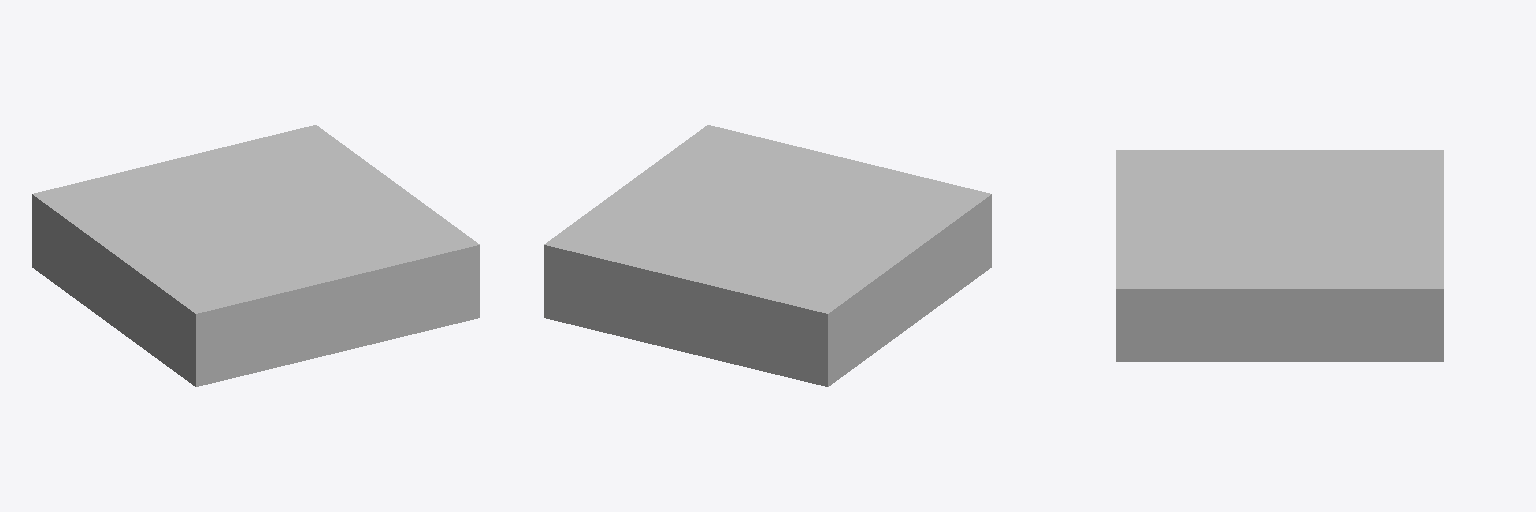
The model's file is PillarFoundation.obj.
3 views of the same model, side by side, from view 1: azimuth 30°, elevation 25°; view 2: azimuth 150°, elevation 25°; view 3: azimuth 270°, elevation 25° (orthographic).
Parts seen in each view (by area): view 1: Pillar1.005_Cube.002; view 2: Pillar1.005_Cube.002; view 3: Pillar1.005_Cube.002.
Part boxes in pixels (x1,y1,x2,y2): Pillar1.005_Cube.002: (32, 125, 479, 386); Pillar1.005_Cube.002: (544, 125, 991, 386); Pillar1.005_Cube.002: (1116, 150, 1443, 361).
Size of the model in its own units: 18.21 by 4.49 by 18.21.